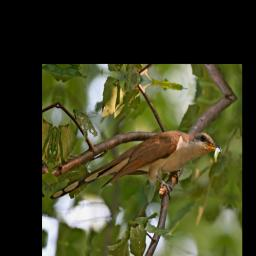Cuckoo: (48, 103, 227, 233)
